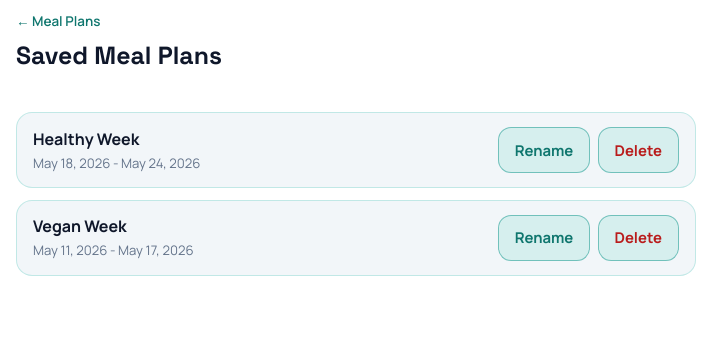
Test case: SavedMealPlansPage › rename › shows a rename input when Rename is clicked
Check: the text "Healthy Week" is shown, box [33, 128, 139, 150]
What coordinates should you click on to do the following:
click the button "Rename" in the row of "Healthy Week"
I would click on:
 (544, 150)
Its box is [498, 127, 590, 173].
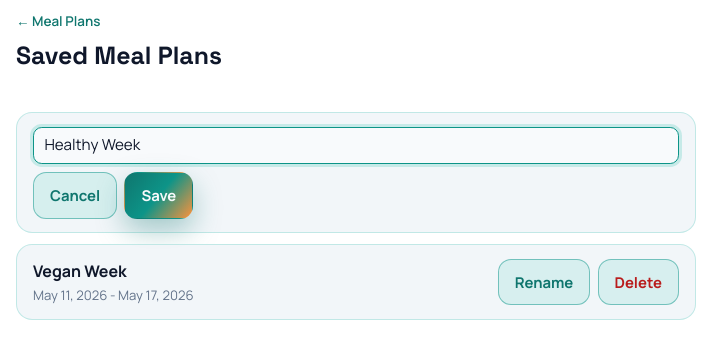
Check: the field showing "Healthy Week" is shown, box [33, 127, 679, 164]
